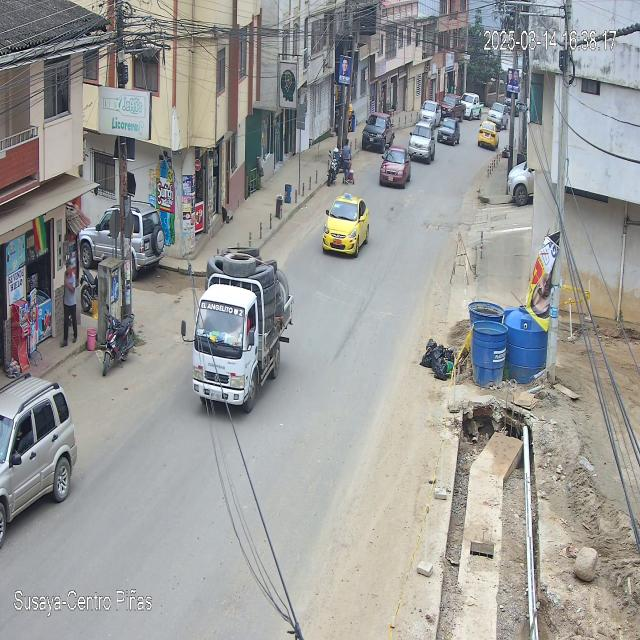CMT: (362, 112, 396, 154)
SED: (322, 193, 370, 259), (379, 146, 412, 190)
SUV: (408, 121, 435, 164)
TRUCK: (193, 274, 295, 414)
